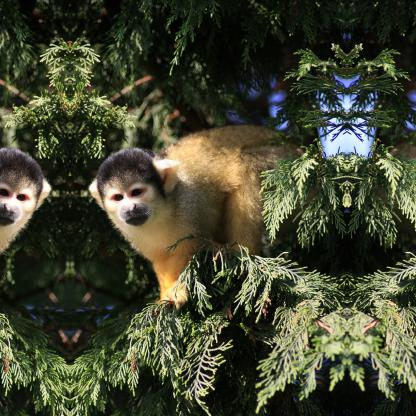Monkey: (83, 128, 293, 326), (0, 128, 56, 327)
